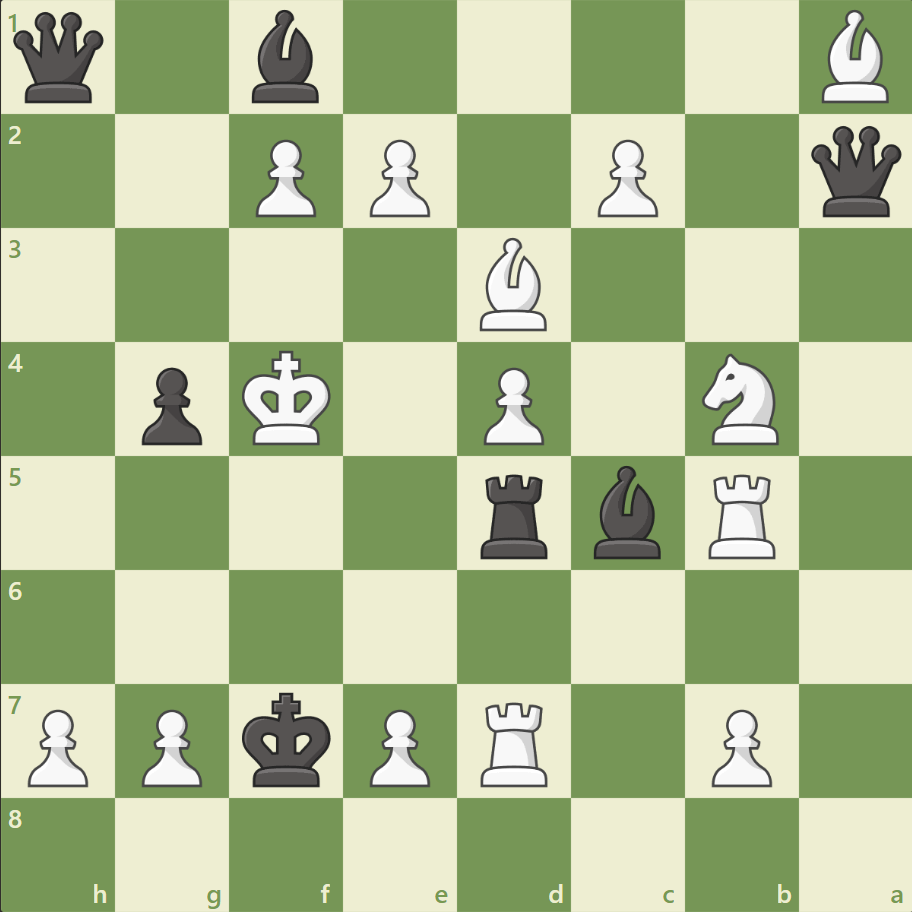B: (471, 233, 555, 336), (812, 6, 896, 109)
K: (238, 344, 338, 452)
N: (692, 348, 789, 450)
P: (701, 700, 776, 791), (133, 700, 208, 791), (20, 700, 95, 791), (474, 359, 549, 450), (247, 132, 322, 223), (361, 700, 435, 791), (588, 132, 662, 223), (361, 132, 435, 223)
R: (473, 693, 556, 790), (700, 466, 783, 563)
b: (585, 460, 669, 563), (244, 6, 328, 109)
k: (238, 685, 338, 793)
p: (133, 359, 208, 450)
q: (805, 122, 904, 222), (10, 9, 109, 108)
r: (473, 466, 556, 563)
